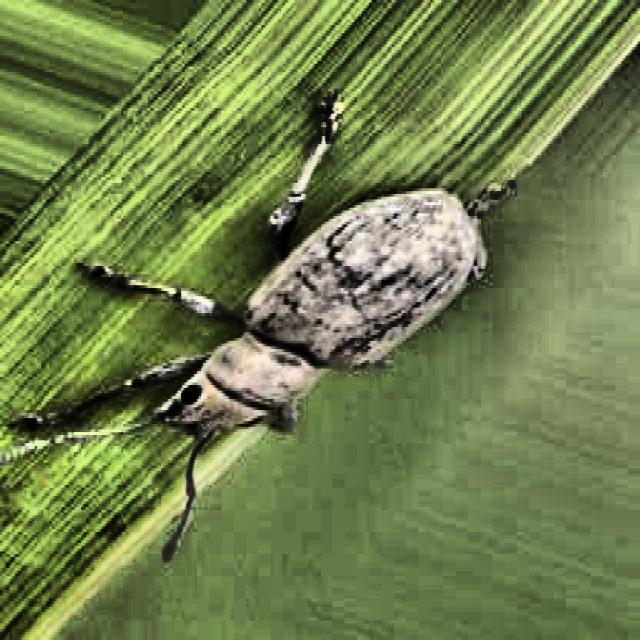Stink bug: (58, 78, 500, 544)
